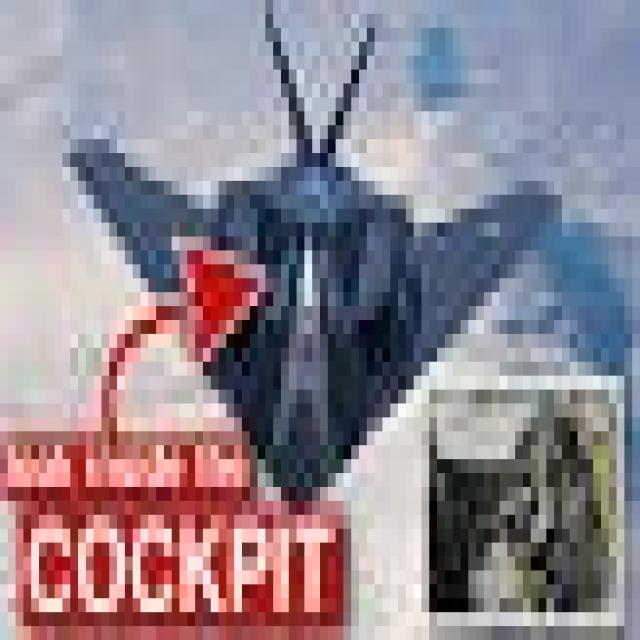F117: (47, 0, 609, 543)
